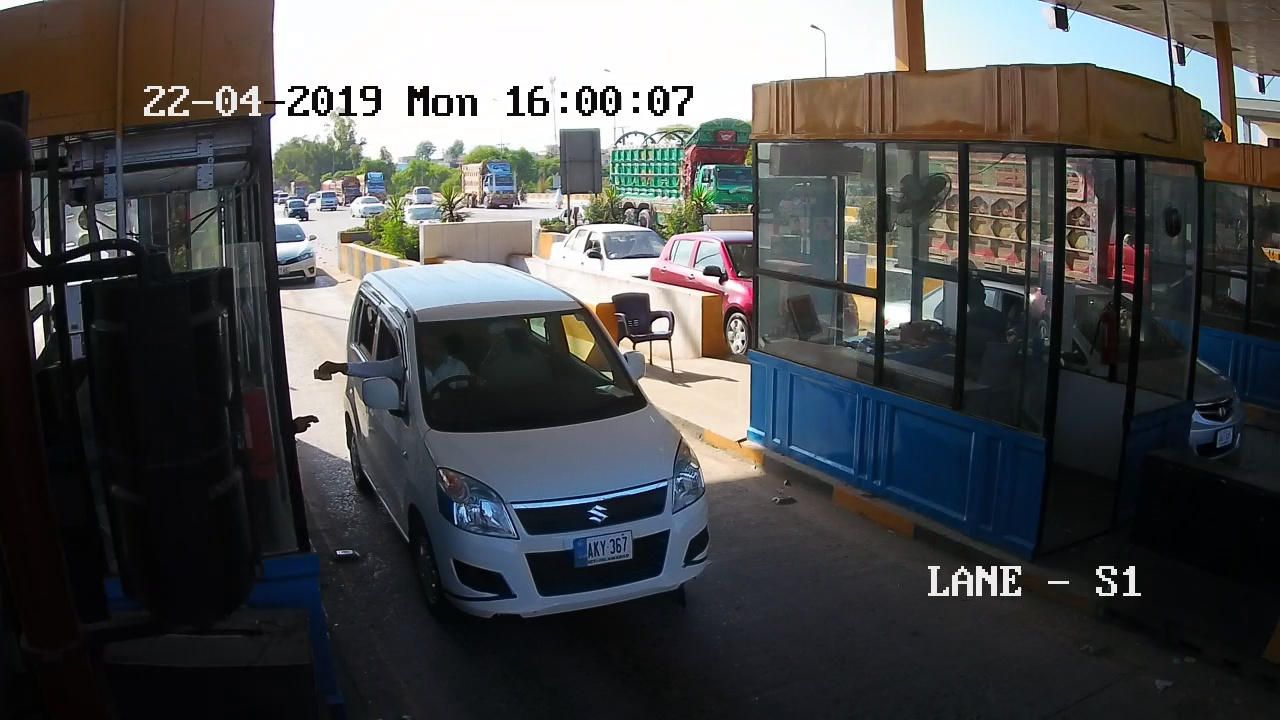Number Plate (Car): (573, 533, 635, 567)
